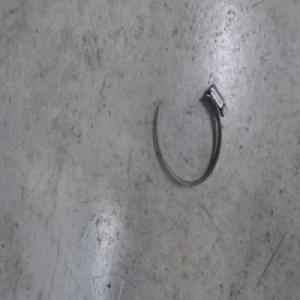AdjustableClamp: (152, 82, 227, 191)
